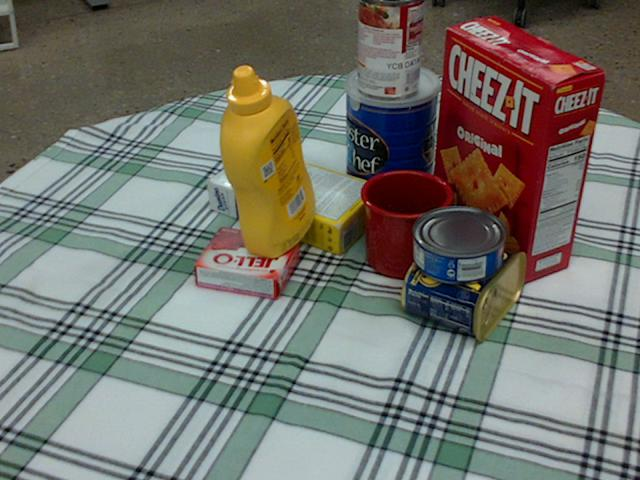cracker_box: (430, 16, 607, 280)
gelatin_box: (194, 228, 301, 300)
master_chef_can: (344, 62, 440, 215)
mug: (361, 169, 455, 279)
mustard_bottle: (219, 65, 314, 258)
potted_meat_can: (403, 227, 529, 337)
sugar_box: (205, 145, 382, 254)
tomato_soup_can: (358, 0, 424, 98)
tuna_fish_can: (412, 207, 506, 283)
